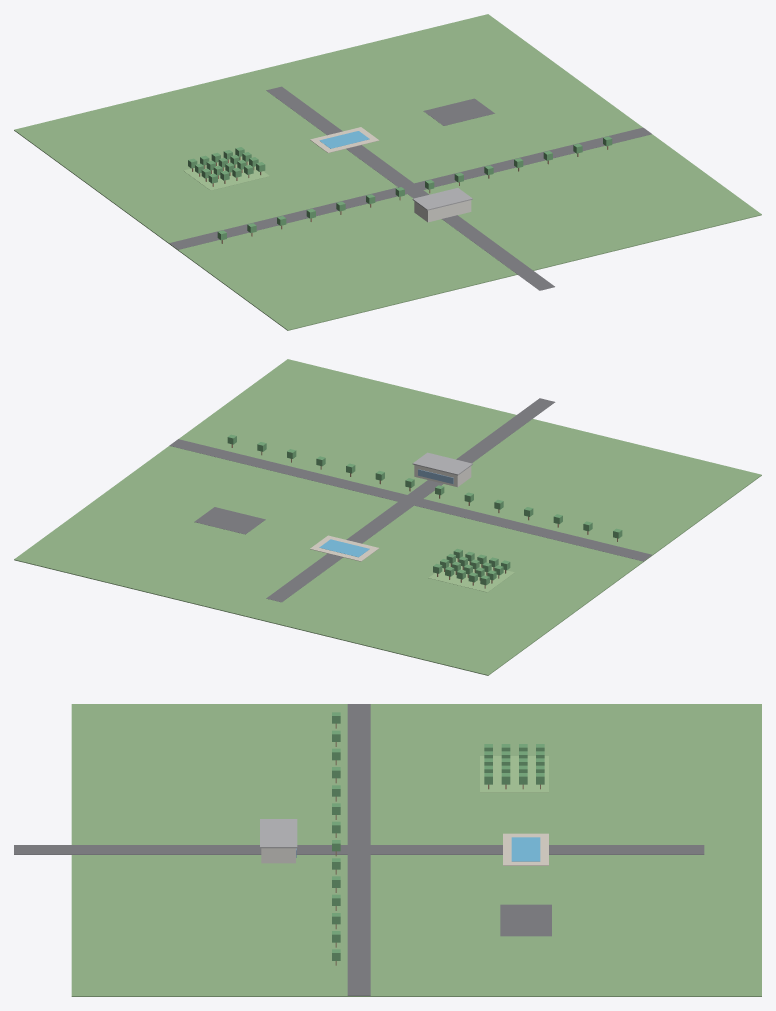
Rendered from site.glb.
3 renders of one model, top to bottom at view 1: azimuth 30°, elevation 25°; view 2: azimuth 150°, elevation 25°; view 3: azimuth 270°, elevation 25°, orthographic. The views are drawn at different scales.
Parts seen in each view (by area): view 1: Ground, Road_Main, Road_Cross, Slab, Lawn, Roof, Body, Deck; view 2: Ground, Road_Cross, Road_Main, Slab, Lawn, Roof, Deck; view 3: Ground, Road_Cross, Road_Main, Slab, Lawn, Roof, Deck, Water, Body.
Boxes of the visible parts, x1,y1,x2,y2 form: Ground: (14,14,761,330); Road_Main: (266,86,554,290); Road_Cross: (169,127,651,249); Slab: (423,98,494,125); Lawn: (183,156,269,190); Roof: (412,188,472,210); Body: (414,200,471,222); Deck: (310,127,379,153); Ground: (14,359,761,675); Road_Cross: (169,439,651,561); Road_Main: (266,398,555,602); Slab: (194,507,265,534); Lawn: (428,558,514,592); Roof: (412,452,472,475); Deck: (310,535,379,561); Ground: (71,704,761,996); Road_Cross: (347,704,370,995); Road_Main: (14,845,704,854); Slab: (500,904,551,936); Lawn: (480,756,548,792); Roof: (260,819,297,848); Deck: (503,833,548,865); Water: (511,837,540,861); Body: (261,848,295,863).
Size of the model in its own units: 240 by 6.9 by 260.
